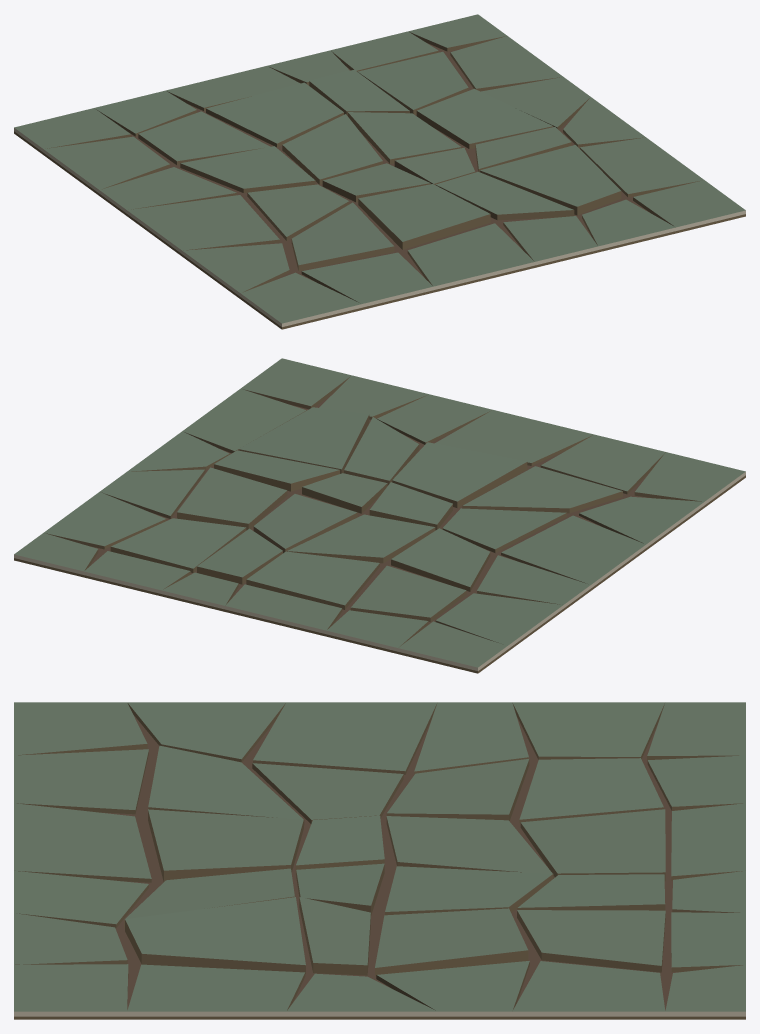
The model's file is reef-rock-pavement-tile-879f47.glb.
3 renders of one model, top to bottom at view 1: azimuth 30°, elevation 25°; view 2: azimuth 150°, elevation 25°; view 3: azimuth 270°, elevation 25°, orthographic. The views are drawn at different scales.
Visible parts, largest first — view 1: reef-rock-pavement-tile-mesh; view 2: reef-rock-pavement-tile-mesh; view 3: reef-rock-pavement-tile-mesh.
Part boxes in pixels (x1=…): reef-rock-pavement-tile-mesh: x1=14, y1=14, x2=745, y2=329; reef-rock-pavement-tile-mesh: x1=14, y1=358, x2=745, y2=673; reef-rock-pavement-tile-mesh: x1=14, y1=702, x2=745, y2=1019.
Size of the model in its own units: 4 by 0.093 by 4.
